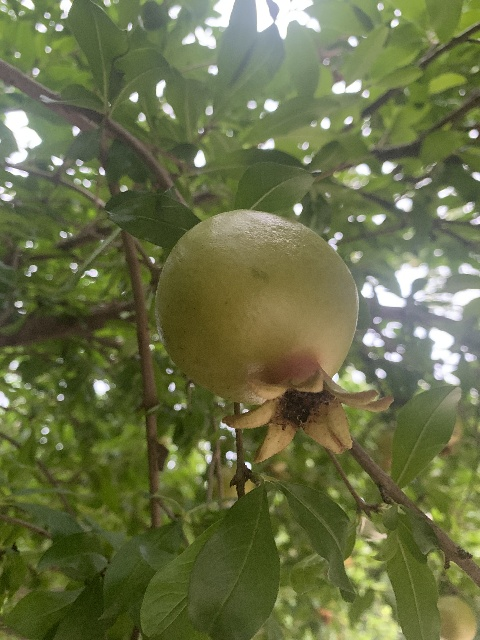mid-growth: (154, 210, 392, 464)
